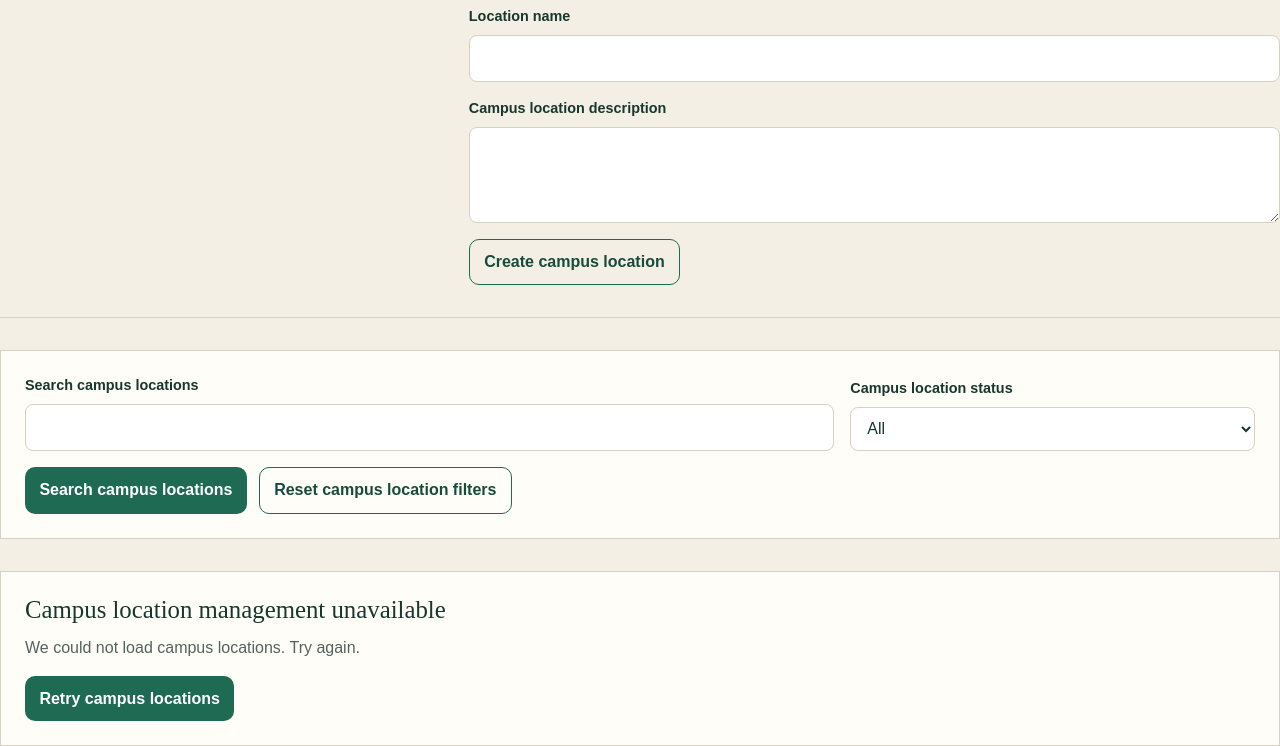
Test: supports initial retry and retains the last valid page on refresh failure
(page scrolled)
Expected: the heading "Campus location management unavailable" is shown, [25,596,446,623]
Click the button "Retry campus locations": (130, 699) [25,676,234,721]
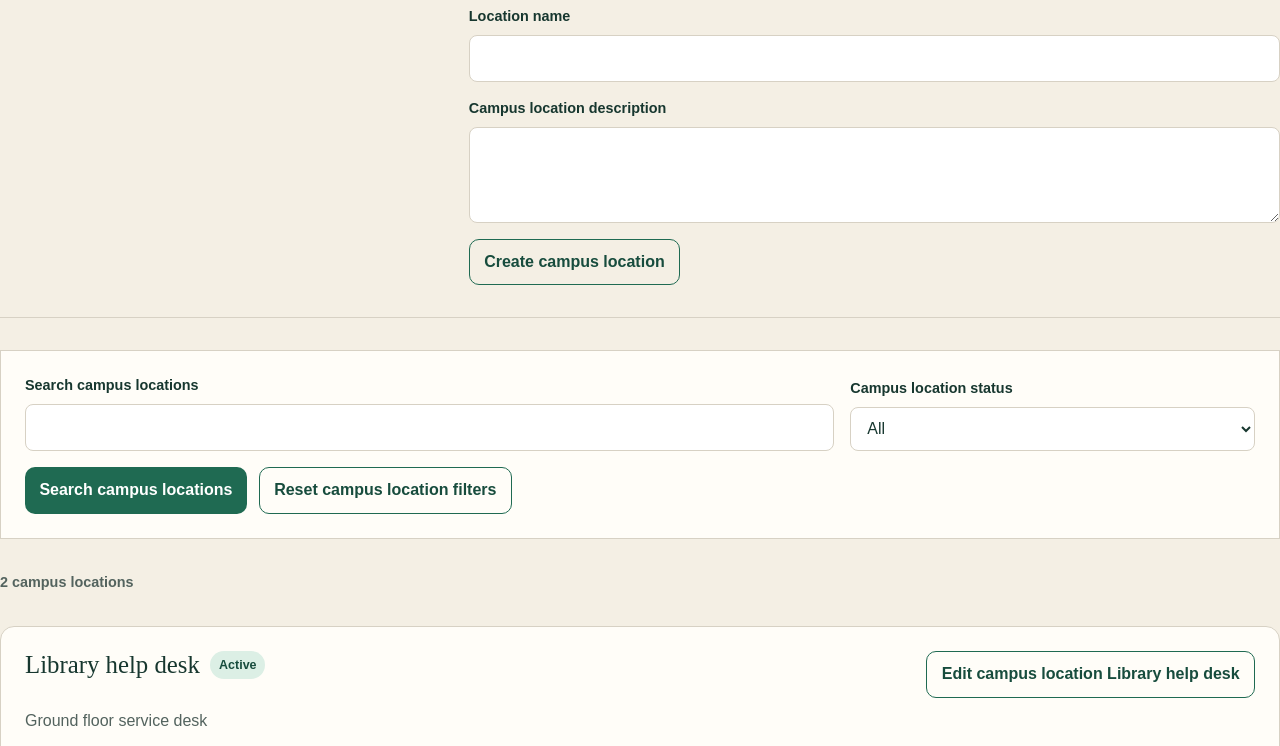
Result: the heading "Library help desk" is shown at [25,651,200,679]
Select "Inactive" in the dropdown labelled "Campus location status": (1053, 429) [850,407,1255,451]
(page scrolled)
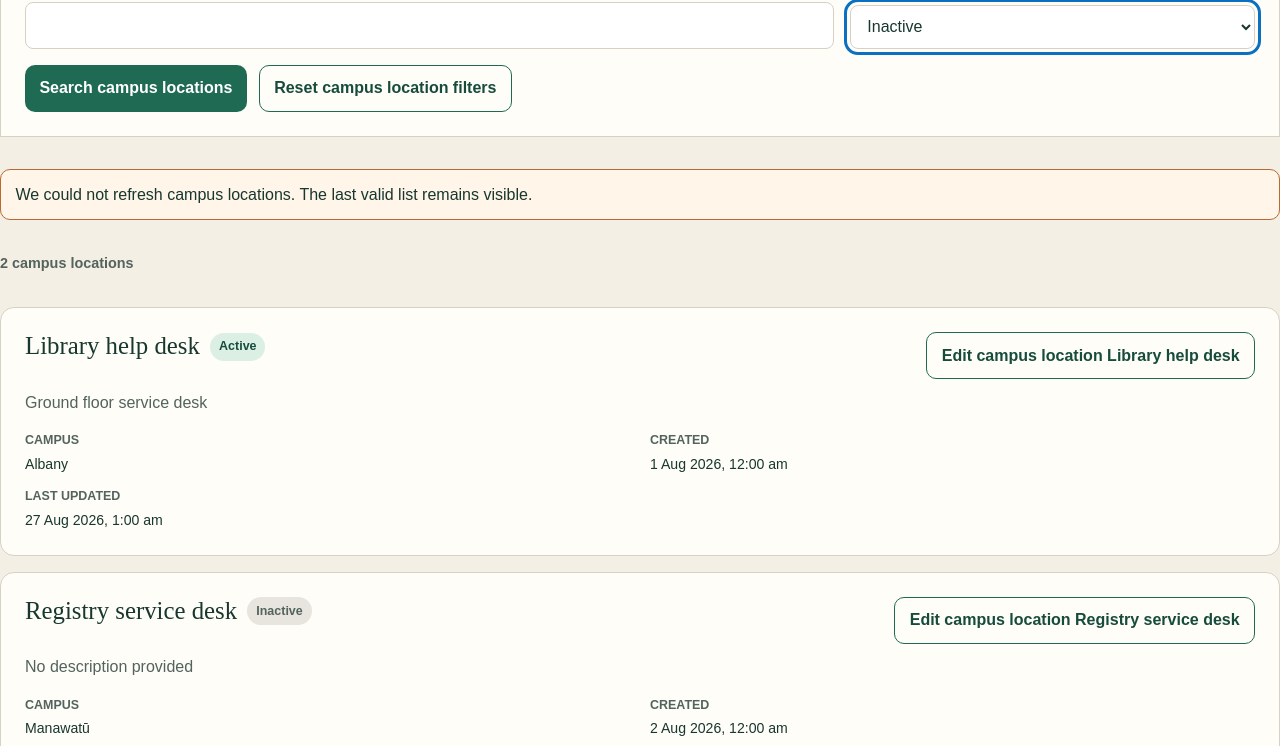
Result: the heading "Library help desk" is shown at [25,332,200,361]
Result: the message "We could not refresh campus locations. The last valid list remains visible." is shown at [0,169,1279,220]
